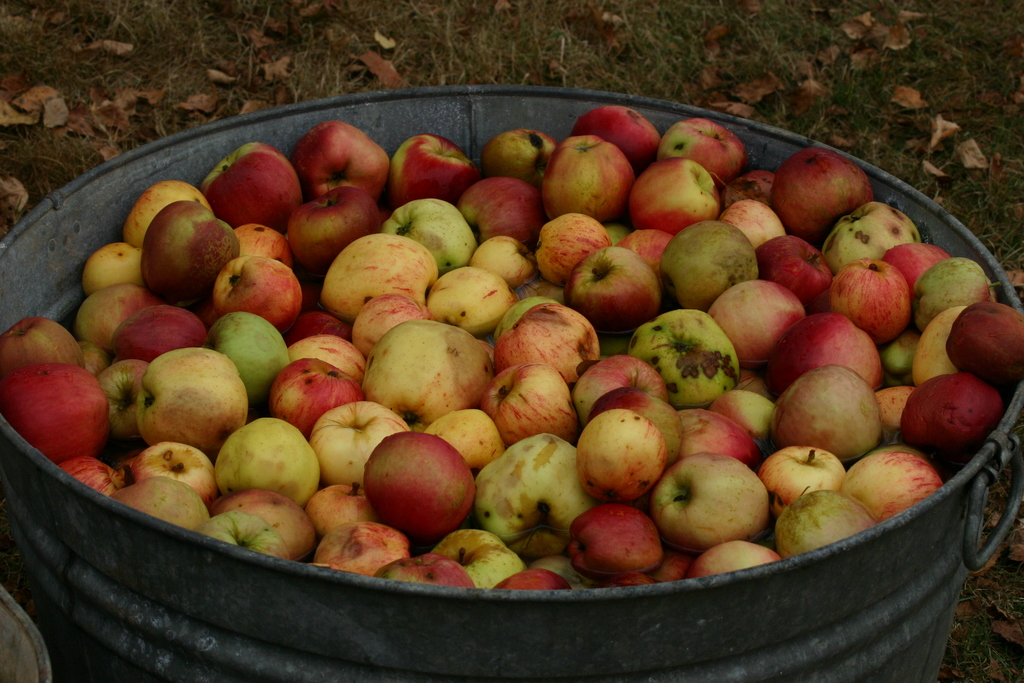Apple: (0, 103, 1023, 590), (668, 441, 785, 556)
